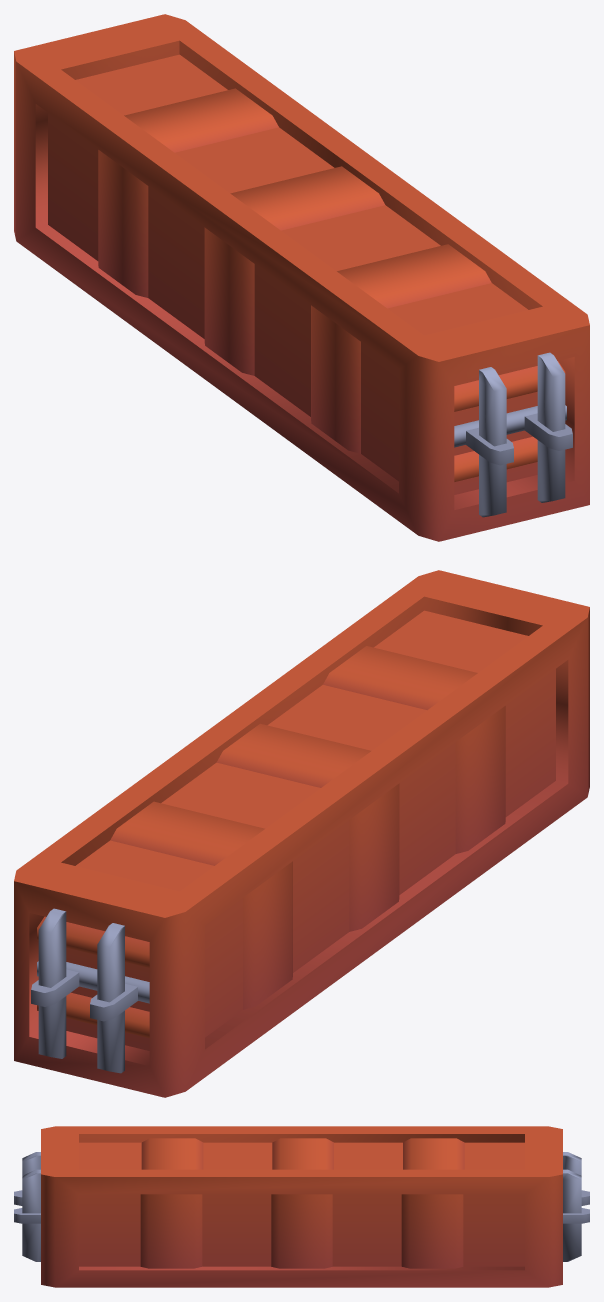
Rendered from container_a.glb.
3 renders of one model, top to bottom at view 1: azimuth 30°, elevation 25°; view 2: azimuth 150°, elevation 25°; view 3: azimuth 270°, elevation 25°, orthographic. The views are drawn at different scales.
Parts seen in each view (by area): view 1: mesh; view 2: mesh; view 3: mesh.
Boxes of the visible parts, bbox=[...] form: mesh: bbox=[14, 14, 589, 541]; mesh: bbox=[14, 570, 589, 1097]; mesh: bbox=[14, 1126, 589, 1287].
Bounding box in the file's own units: 2.54 × 2.58 × 12.2.
